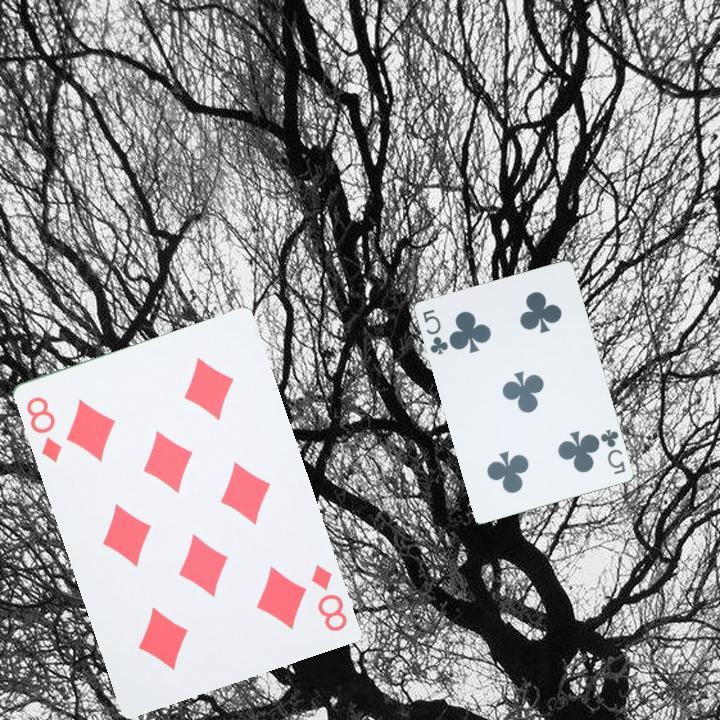5c: (418, 305, 451, 357), (596, 425, 628, 477)
8d: (306, 560, 350, 634), (22, 392, 64, 466)
